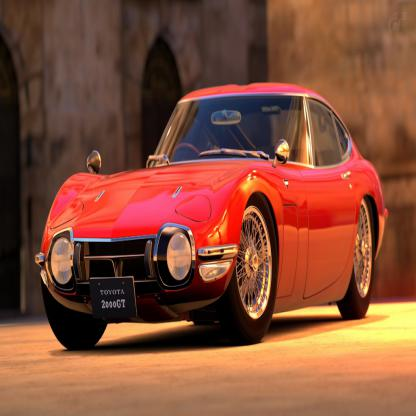Car: (35, 81, 389, 351)
